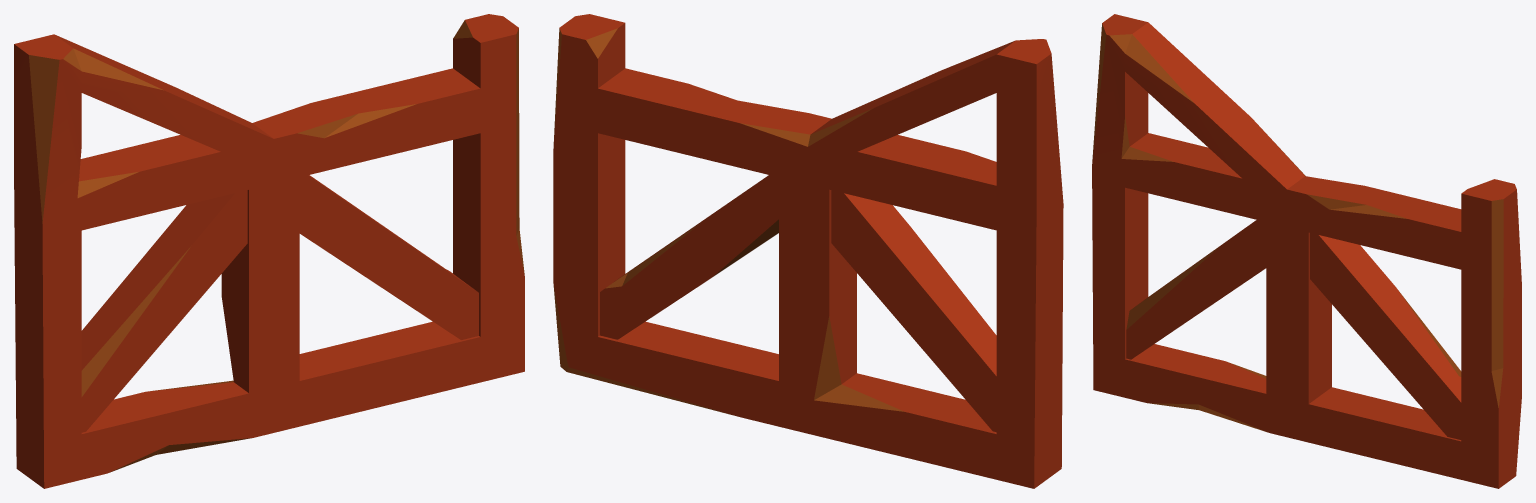
File: Gate_Door_Left.001_2.fbx
3 renders of one model, left to right at view 1: azimuth 30°, elevation 25°; view 2: azimuth 150°, elevation 25°; view 3: azimuth 330°, elevation 25°, orthographic. The views are drawn at different scales.
Parts seen in each view (by area): view 1: Gate_Door_Left.001_2; view 2: Gate_Door_Left.001_2; view 3: Gate_Door_Left.001_2.
Boxes of the visible parts, box(x1,y1,x2,y2) form: Gate_Door_Left.001_2: box(14, 14, 524, 488); Gate_Door_Left.001_2: box(553, 14, 1063, 488); Gate_Door_Left.001_2: box(1092, 14, 1521, 488).
Size of the model in its own units: 41.79 by 35.14 by 4.13.
